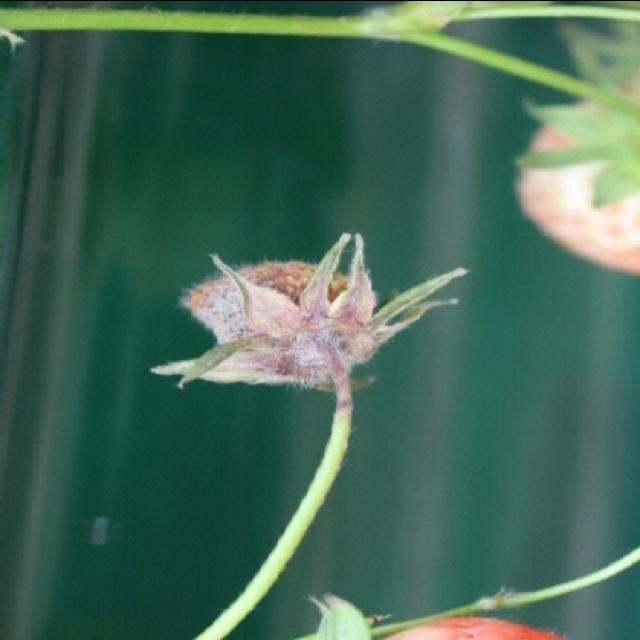Gray Mold: (149, 231, 468, 414)
